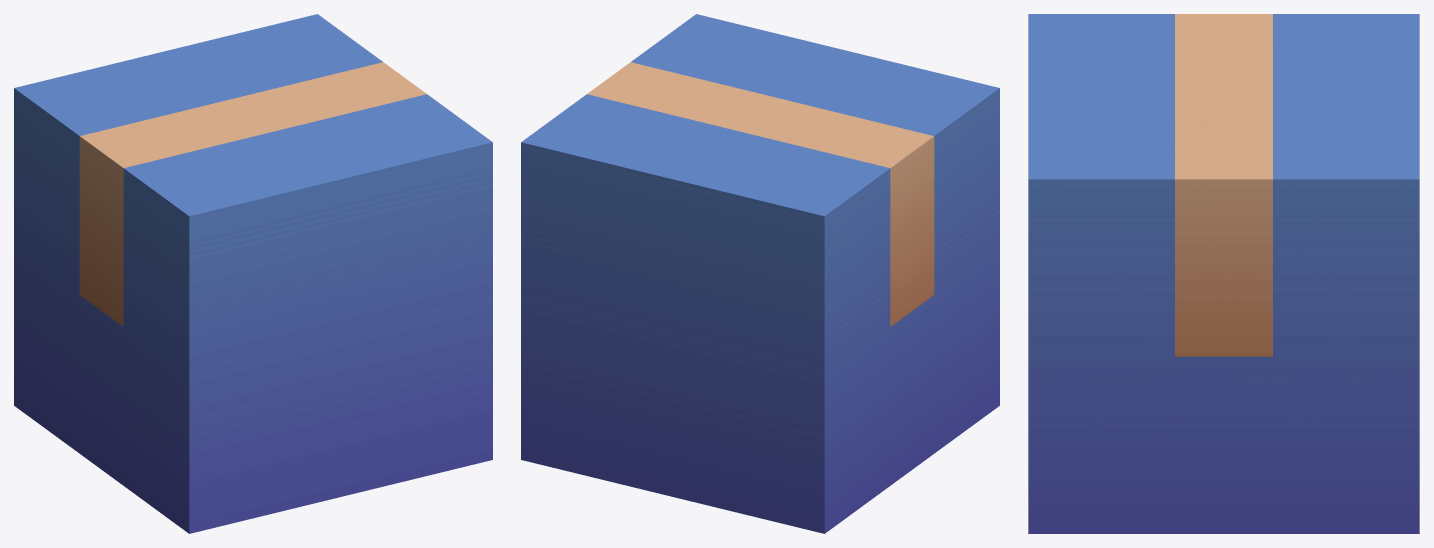
The model's file is Blue.glb.
3 renders of one model, left to right at view 1: azimuth 30°, elevation 25°; view 2: azimuth 150°, elevation 25°; view 3: azimuth 270°, elevation 25°, orthographic. The views are drawn at different scales.
Visible parts, largest first — view 1: box-small; view 2: box-small; view 3: box-small.
Boxes of the visible parts, <box> form: box-small: <box>14,14,492,533</box>; box-small: <box>521,14,999,533</box>; box-small: <box>1028,14,1419,533</box>.
Size of the model in its own units: 0.5 by 0.5 by 0.5.
1 material, 1 textured.
